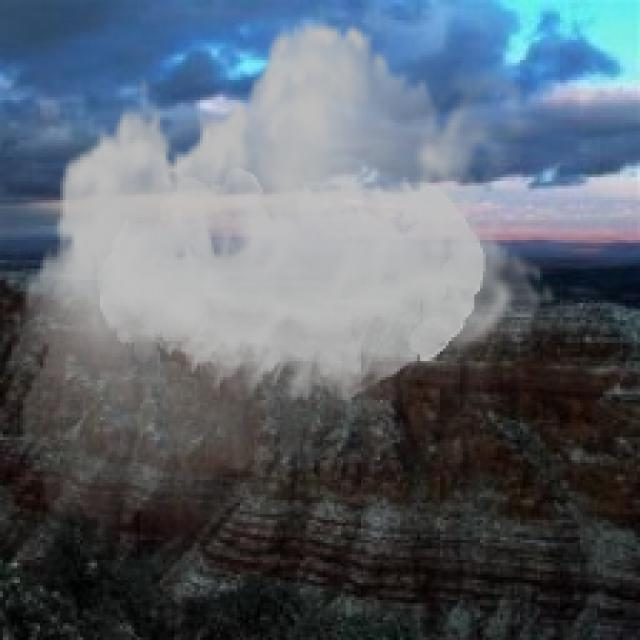smoke: (12, 0, 557, 560)
